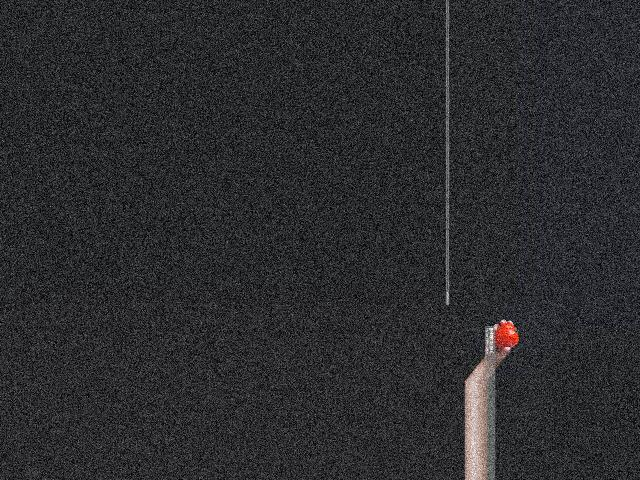tomato: (494, 322, 519, 347)
